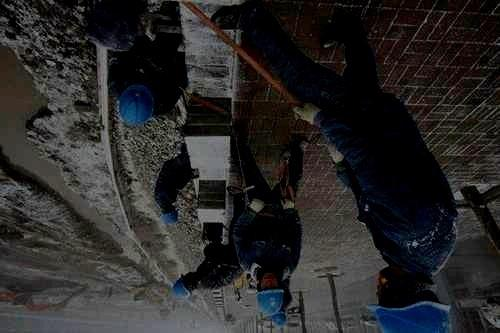helmet: (365, 264, 452, 333), (118, 82, 153, 128), (254, 273, 285, 317), (172, 271, 200, 300), (159, 203, 178, 225), (271, 306, 287, 327)
